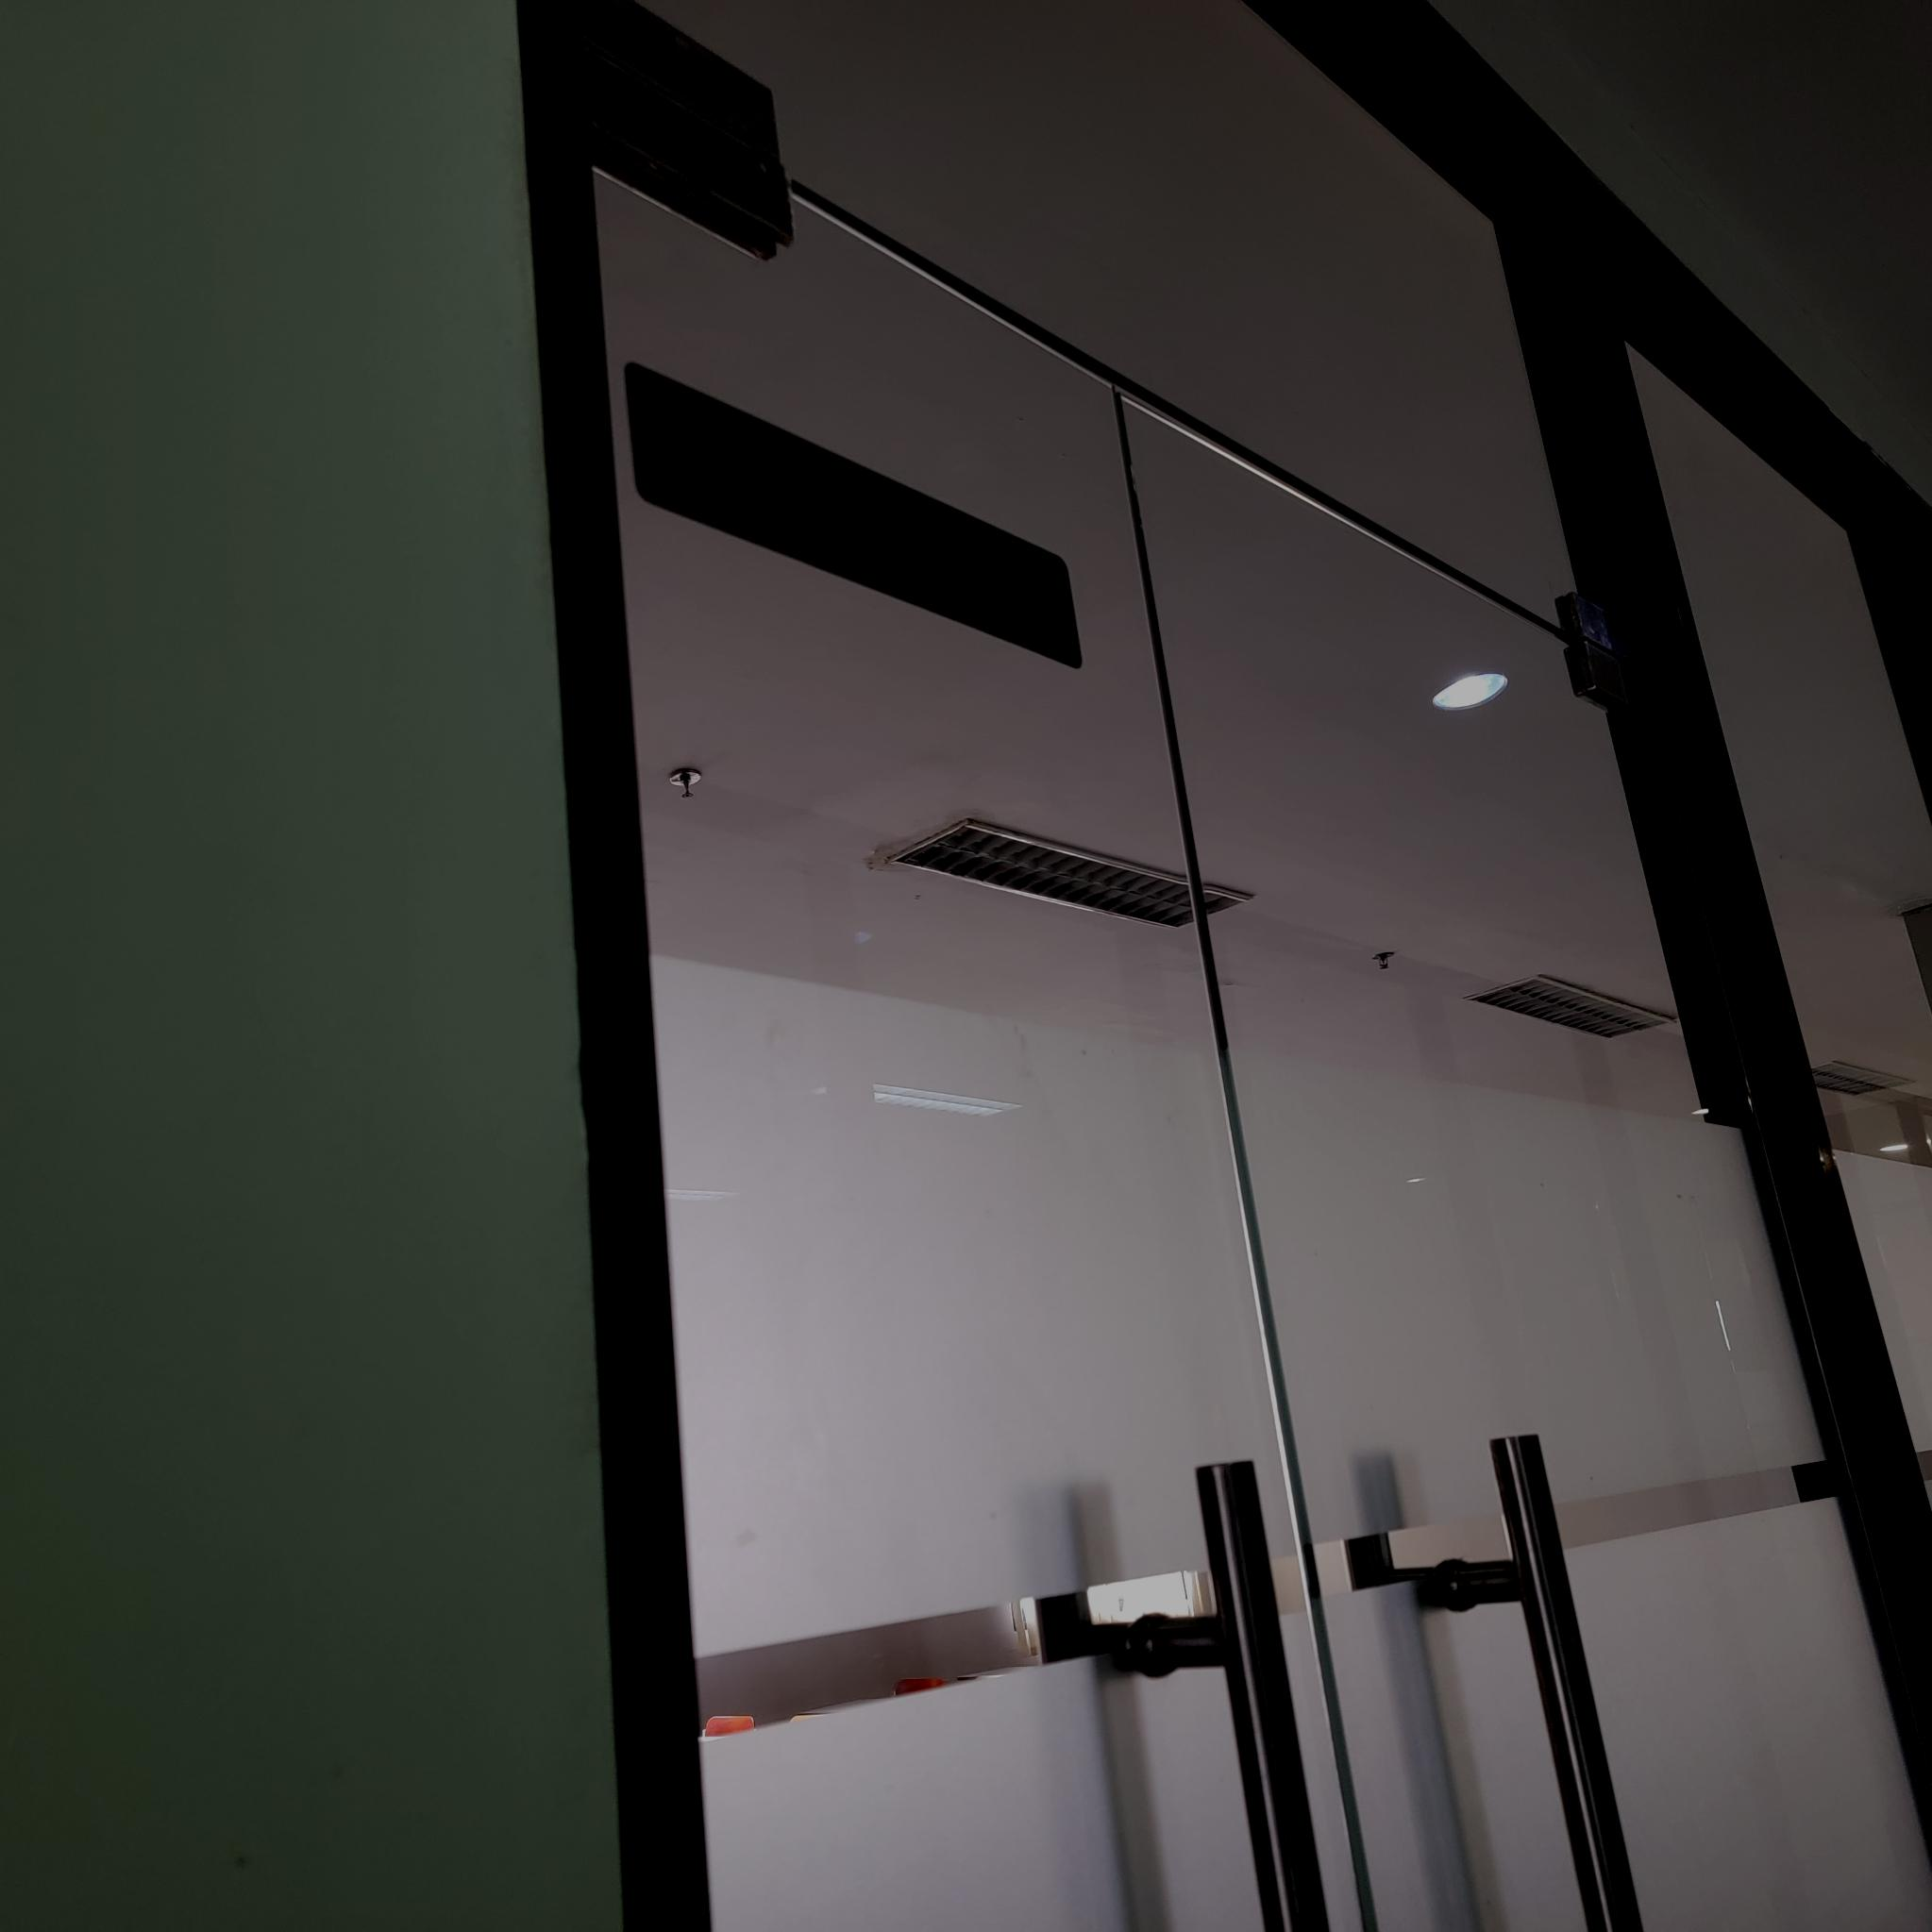plate: (626, 357, 1083, 669)
